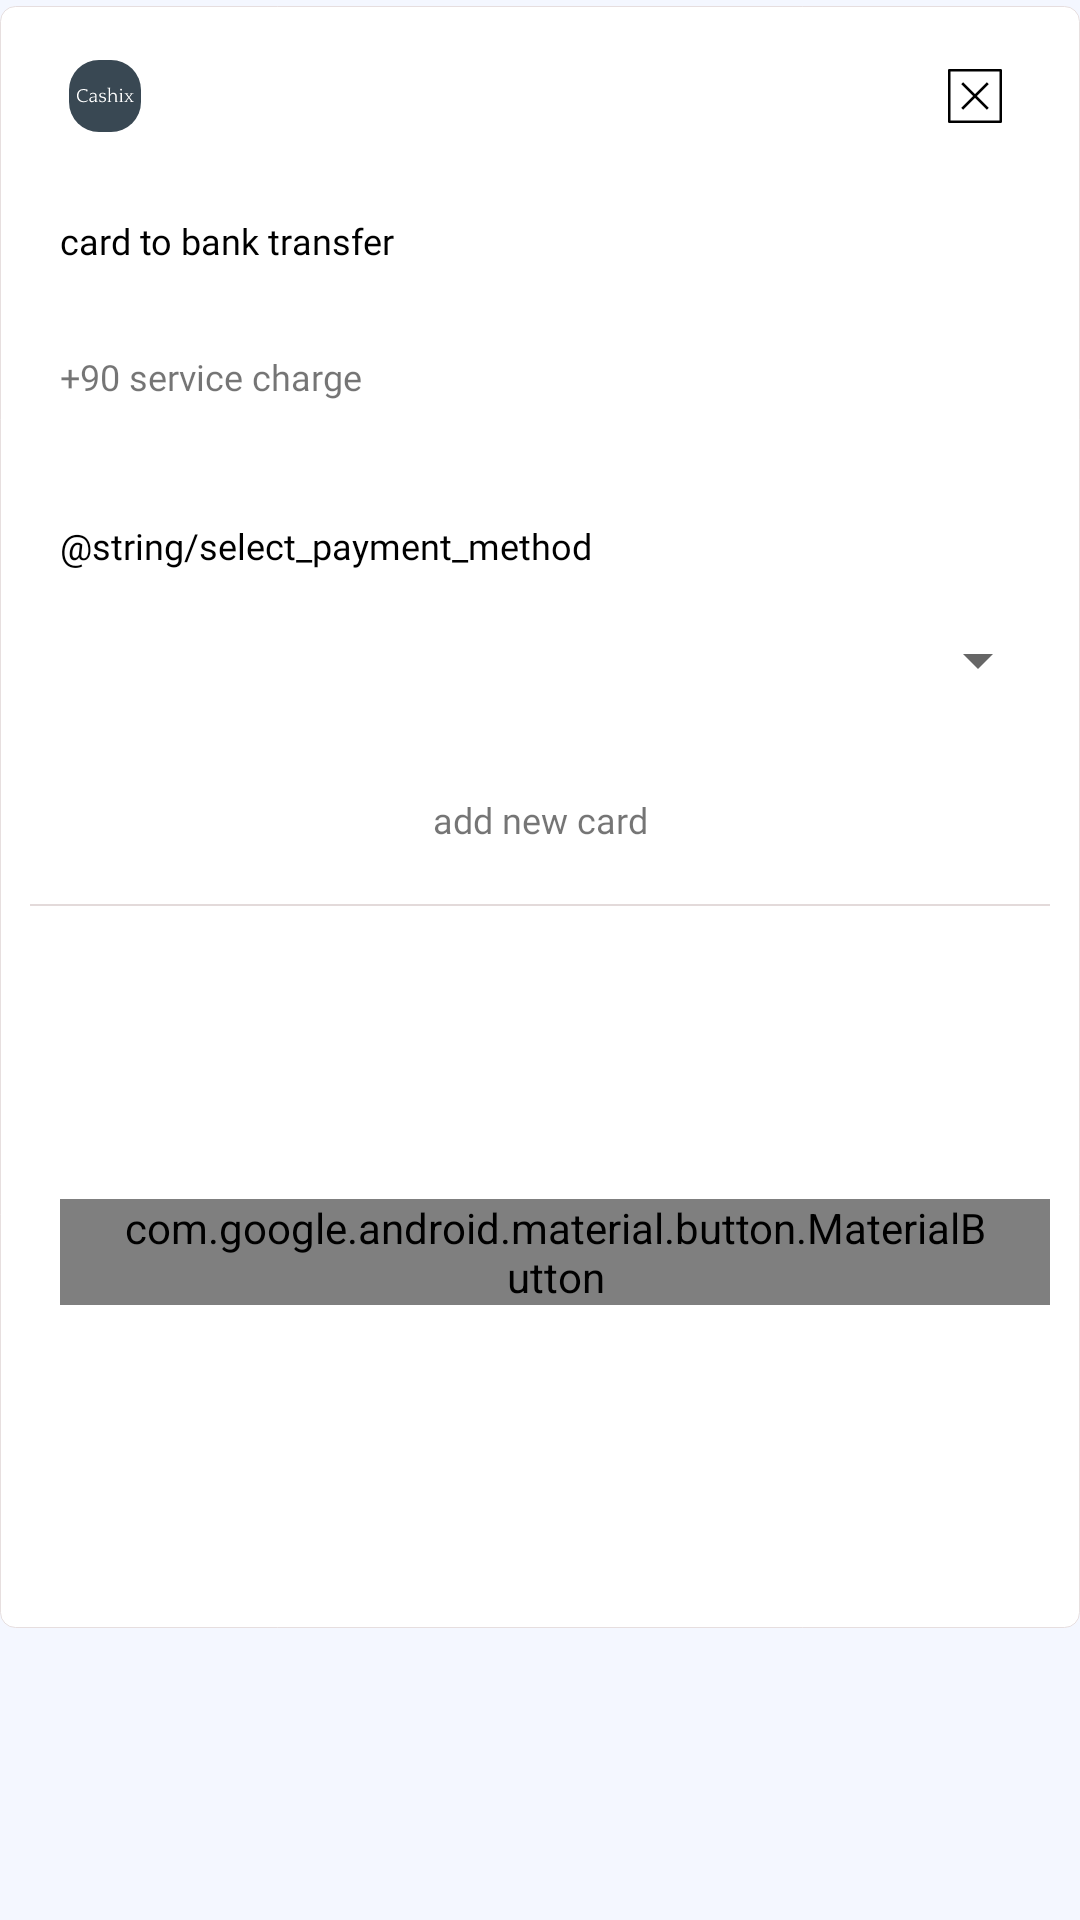

Icons on this 1080x1920 Android screen, each with its box as (x1, y1, x2, y2):
cross: (948, 69, 1002, 123)
